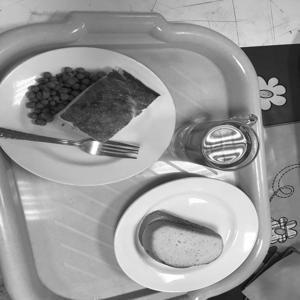bread: (129, 205, 236, 270)
casserole: (9, 51, 165, 149)
tea: (177, 106, 259, 175)
